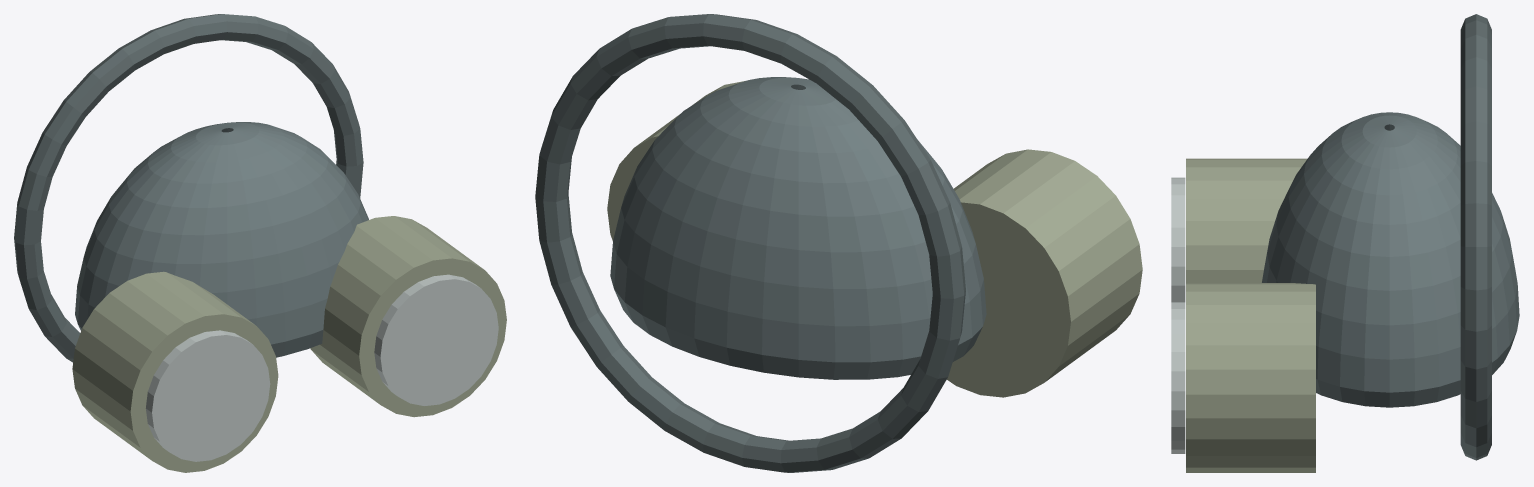
3 renders of one model, left to right at view 1: azimuth 30°, elevation 25°; view 2: azimuth 150°, elevation 25°; view 3: azimuth 270°, elevation 25°, orthographic. The views are drawn at different scales.
Parts seen in each view (by area): view 1: hollow face cup, head strap, filter canister, filter canister.001, filter grille.001, filter grille; view 2: hollow face cup, head strap, filter canister, filter canister.001; view 3: hollow face cup, filter canister.001, head strap, filter canister, filter grille.001, filter grille.
Boxes of the visible parts, left/top/right/bottom form: hollow face cup: left=75, top=122, right=368, bottom=357; head strap: left=14, top=14, right=363, bottom=362; filter canister: left=72, top=271, right=278, bottom=472; filter canister.001: left=310, top=216, right=506, bottom=417; filter grille.001: left=374, top=274, right=498, bottom=405; filter grille: left=145, top=330, right=270, bottom=461; hollow face cup: left=610, top=77, right=986, bottom=379; head strap: left=535, top=14, right=965, bottom=472; filter canister: left=947, top=149, right=1142, bottom=397; filter canister.001: left=607, top=81, right=744, bottom=240; hollow face cup: left=1262, top=112, right=1519, bottom=407; filter canister.001: left=1186, top=283, right=1315, bottom=472; head strap: left=1460, top=14, right=1491, bottom=460; filter canister: left=1186, top=158, right=1307, bottom=282; filter grille.001: left=1171, top=302, right=1185, bottom=453; filter grille: left=1171, top=177, right=1185, bottom=301.
Size of the model in its own units: 0.28 by 0.258 by 0.201.
